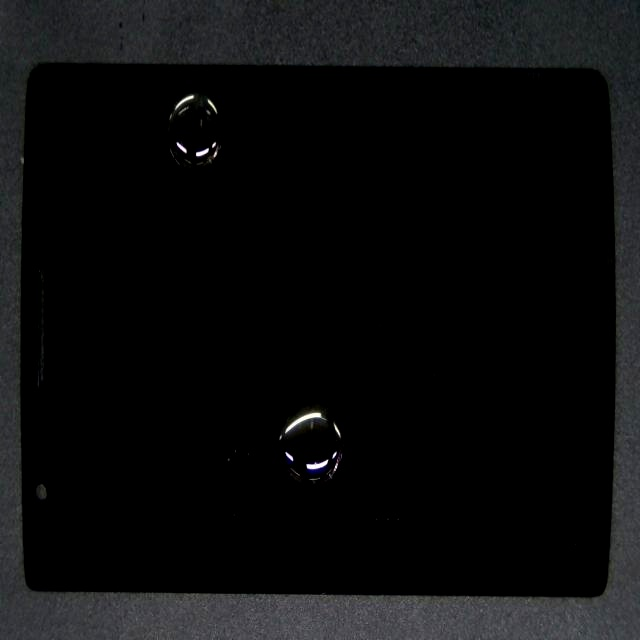oil: (178, 225, 499, 620), (114, 71, 323, 158)
